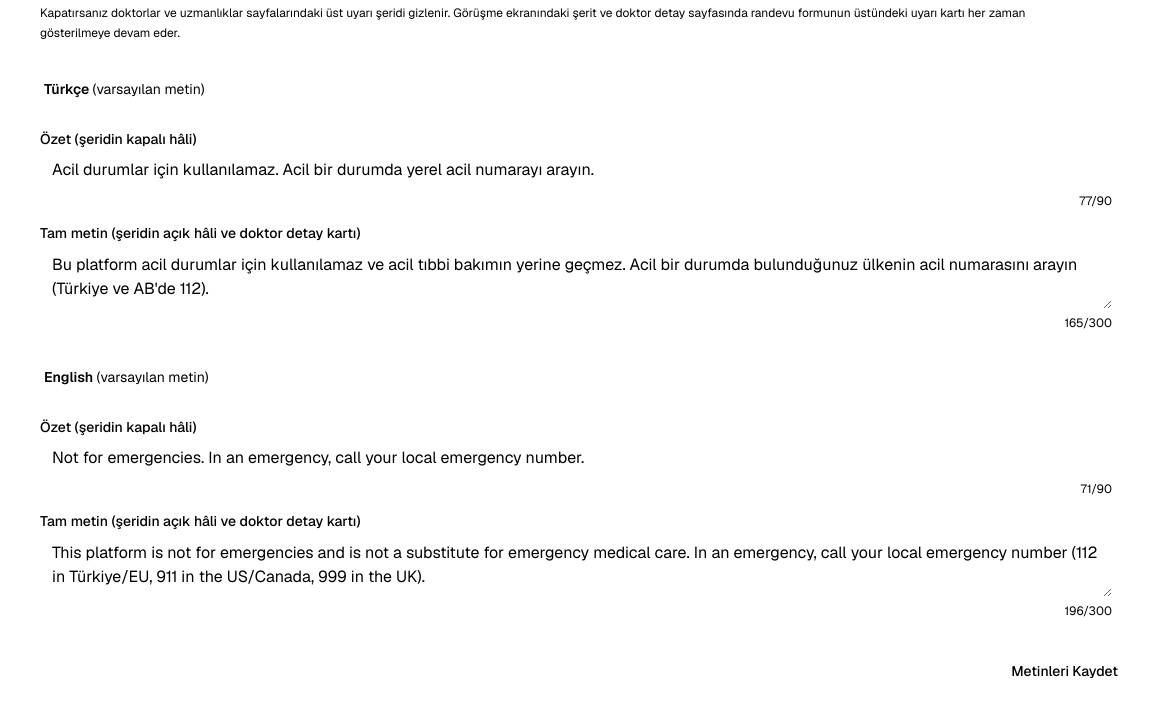
Test: EmergencyNoticeSettingsCard › anahtar kelimesiz metin anlaşılır hatayla kaydedilmez
This screenshot has width=1152, height=711.
(page scrolled)
Replace the text in the text box with id "emergency-notice-en-full" with "This platform does not replace urgent medical care at all." at coordinates (576, 565), box [40,533,1112,597]
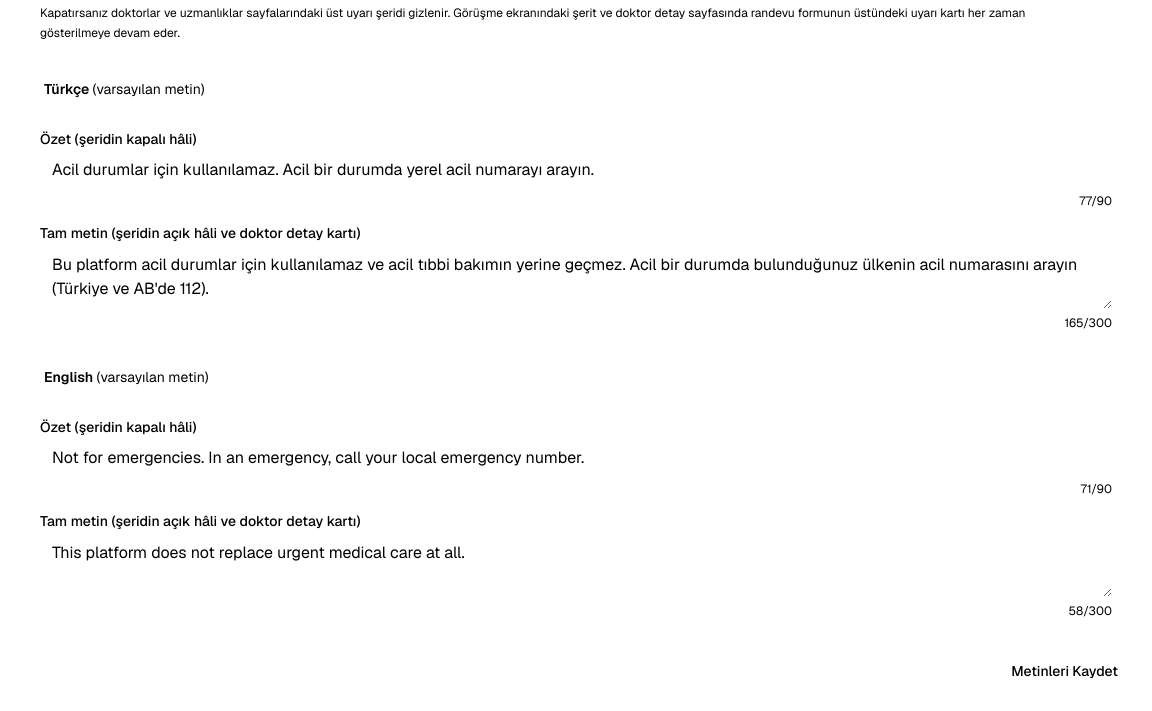
Click the button "Metinleri Kaydet".
click(1065, 671)  # box [1001,655,1128,687]
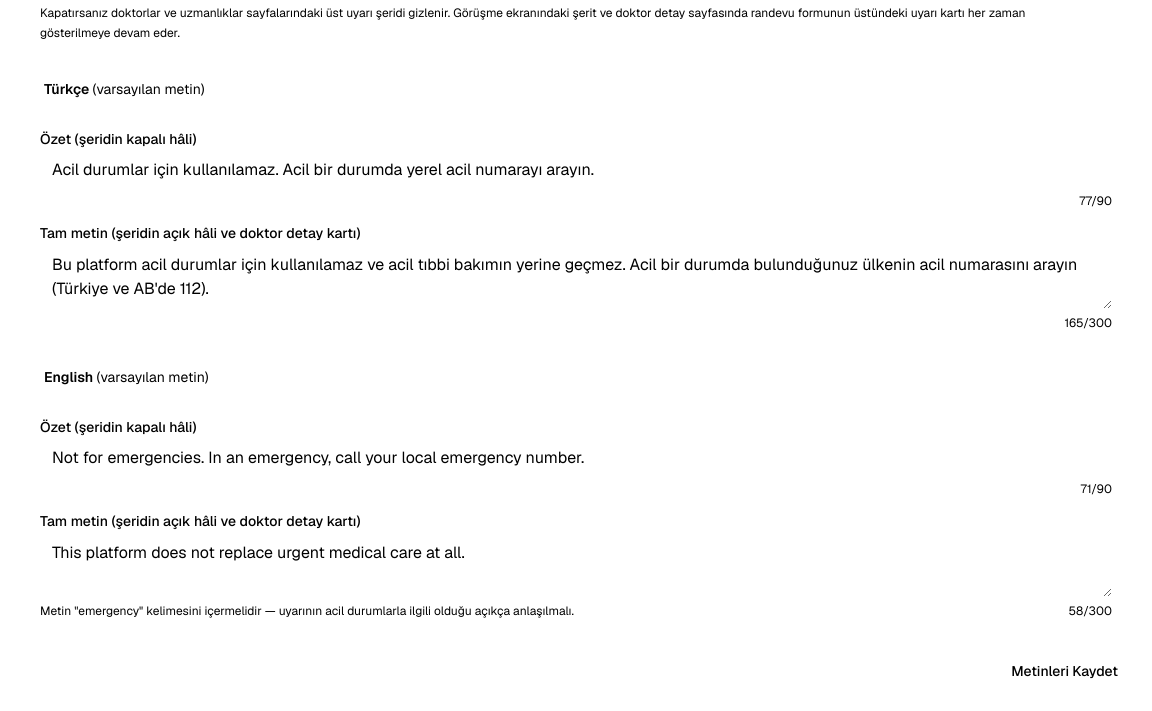
Check: the text "\"emergency\" kelimesini içermelidir" is shown, box [40,603,574,619]
